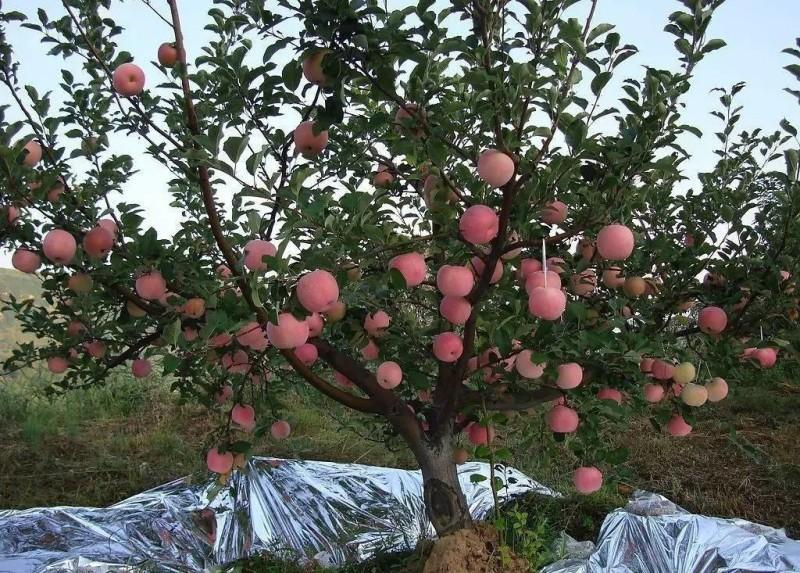apple: (298, 269, 339, 310), (460, 204, 499, 245), (267, 312, 309, 347), (477, 149, 513, 188), (597, 224, 634, 261), (294, 119, 330, 157), (529, 286, 567, 320), (437, 265, 474, 298), (389, 252, 425, 285), (112, 63, 146, 97), (84, 225, 114, 258), (432, 332, 464, 362), (440, 295, 472, 325), (243, 241, 276, 270), (525, 271, 561, 296), (516, 348, 545, 377), (699, 305, 727, 332), (550, 405, 577, 432), (575, 466, 602, 493), (377, 362, 403, 389), (556, 362, 582, 389), (681, 382, 708, 406), (158, 41, 183, 65), (622, 275, 648, 297), (706, 377, 729, 400), (470, 421, 493, 444), (669, 412, 692, 435), (753, 346, 777, 368), (644, 381, 664, 402)
